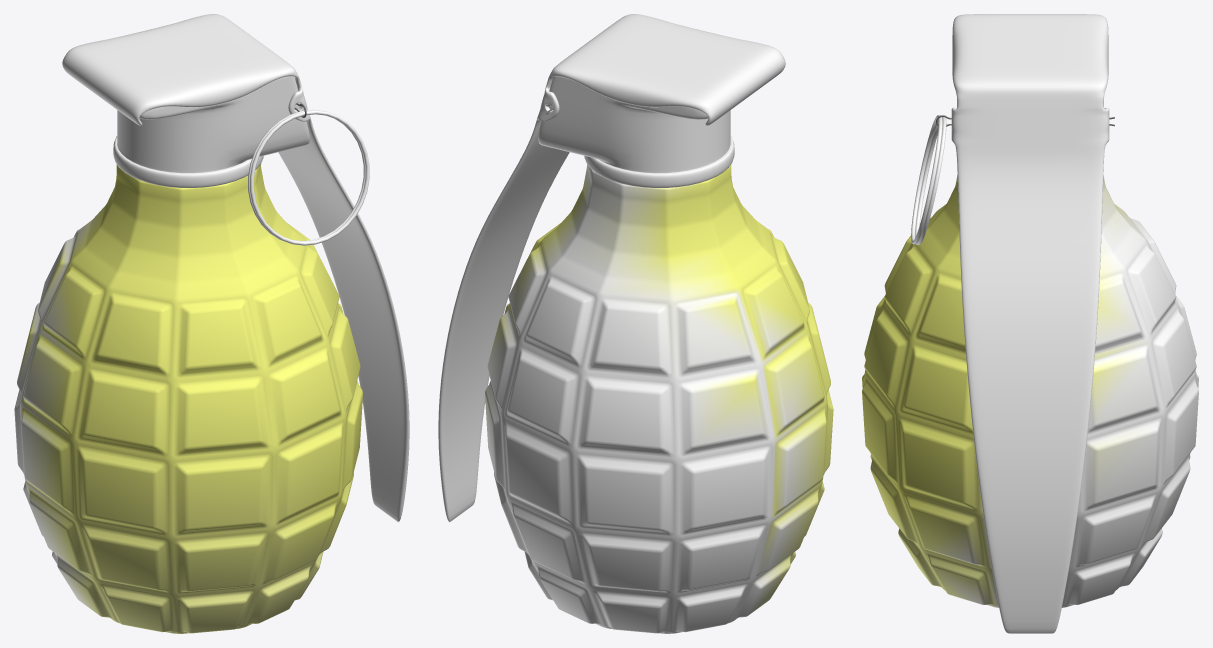
Rendered from GrenadeLowRes.fbx.
3 renders of one model, left to right at view 1: azimuth 30°, elevation 25°; view 2: azimuth 150°, elevation 25°; view 3: azimuth 270°, elevation 25°, orthographic. The views are drawn at different scales.
Parts seen in each view (by area): view 1: Genade Shell, Grenade Pin Holder, Grenade Top Mesh, Grenade Pin Pull; view 2: Genade Shell, Grenade Pin Holder, Grenade Top Mesh; view 3: Grenade Pin Holder, Genade Shell, Grenade Pin Pull.
Boxes of the visible parts, x1,y1,x2,y2 form: Genade Shell: (14, 164, 362, 633); Grenade Pin Holder: (62, 14, 409, 522); Grenade Top Mesh: (113, 76, 309, 187); Grenade Pin Pull: (248, 109, 369, 245); Genade Shell: (485, 164, 833, 633); Grenade Pin Holder: (438, 14, 785, 522); Grenade Top Mesh: (538, 76, 734, 187); Grenade Pin Holder: (951, 14, 1109, 633); Genade Shell: (862, 175, 1198, 607); Grenade Pin Pull: (911, 115, 946, 244).
Size of the model in its own units: 301 by 441 by 260.
